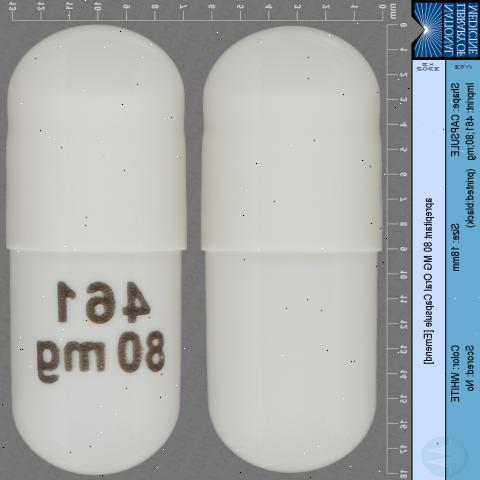Pill: (191, 18, 405, 480), (0, 19, 191, 479)
